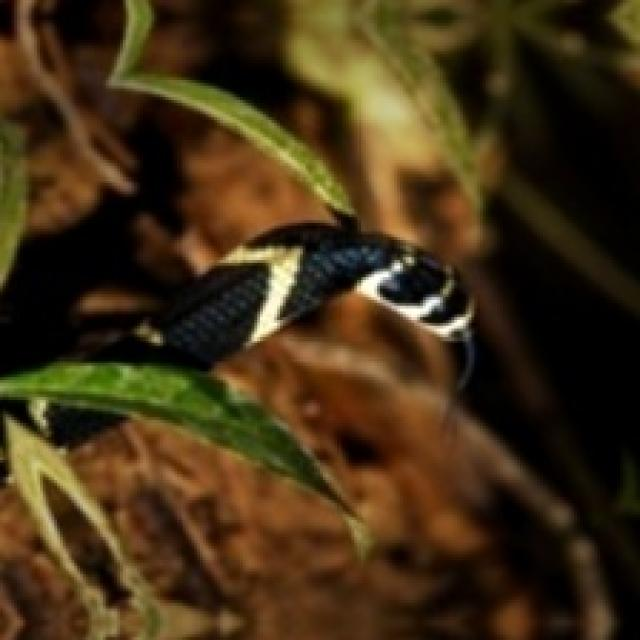king cobra: (0, 223, 471, 486)
